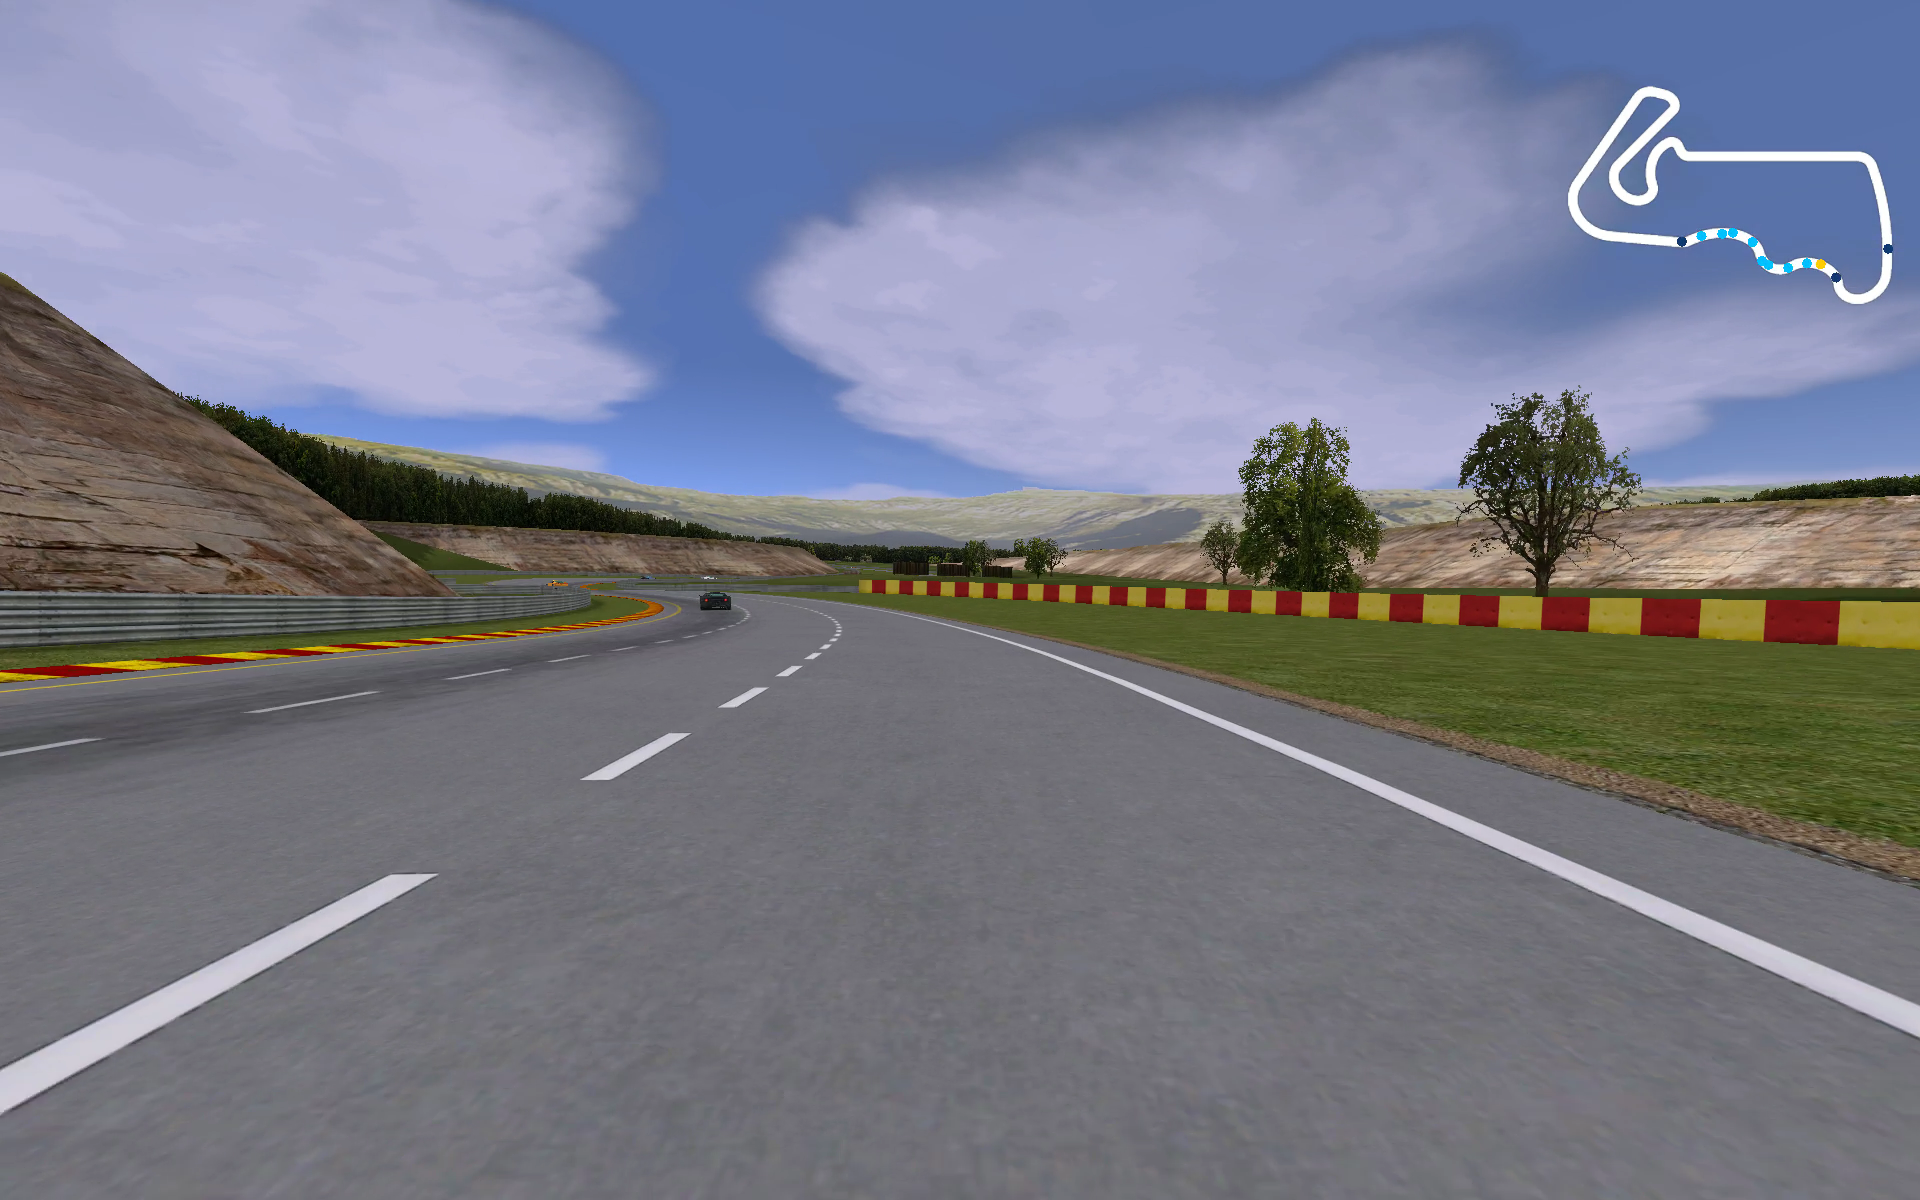car: (695, 586, 734, 614)
